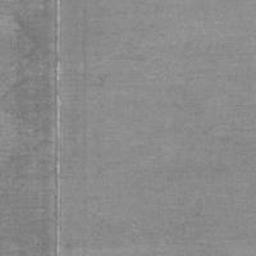Welding line: (54, 0, 63, 256)
